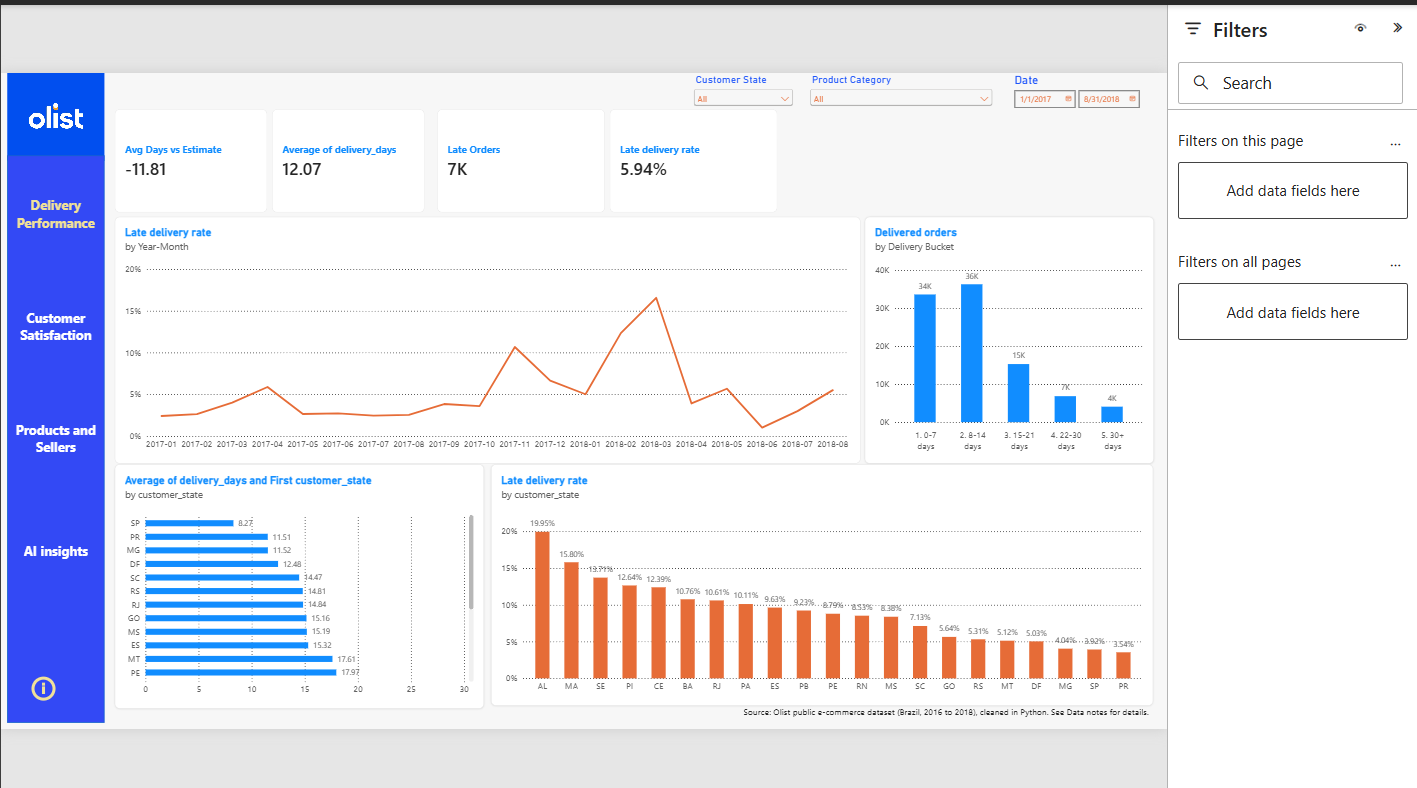

The dashboard page shown, as its layout file describes it:
{"tool":"powerbi","page":{"name":"Delivery Performance","canvas":[1920,1080],"ordinal":1},"visuals":[{"type":"cardVisual","title":"Card 1","fields":{"Data":["order_items.Avg Days vs Estimate","Avg(orders.delivery_days)"]},"box":[188,60,510,170],"z":0},{"type":"cardVisual","title":"Card 2","fields":{"Data":["order_items.Late Orders","order_items.Late delivery rate"]},"box":[718,60,560,170],"z":1000},{"type":"columnChart","fields":{"Category":["orders.Delivery Bucket"],"Y":["order_items.Delivered orders"]},"box":[1421.8,237,476.2,406.4],"z":2000},{"type":"lineChart","fields":{"Category":["Calendar.Year-Month"],"Y":["order_items.Late delivery rate"]},"box":[186.6,237.2,1227.9,406.4],"z":3000},{"type":"columnChart","fields":{"Category":["customers.customer_state"],"Y":["order_items.Late delivery rate"]},"box":[807.5,645,1090,397.7],"z":4000},{"type":"clusteredBarChart","fields":{"Category":["customers.customer_state"],"Y":["Avg(orders.delivery_days)"]},"box":[187.3,644.3,608.3,402.2],"z":5000},{"type":"image","box":[10,0,160,144],"z":6000},{"type":"shape","box":[10,136,160,934],"z":7000},{"type":"pageNavigator","box":[10,144,160,734],"z":8000},{"type":"actionButton","box":[10,962,119.4,105],"z":9000},{"type":"slicer","title":"Date","fields":{"Values":["Calendar.Date"]},"box":[1660.6,0,237.7,142.3],"z":10000},{"type":"slicer","title":"Customer State","fields":{"Values":["customers.customer_state"]},"box":[1136.5,0,172.9,81.1],"z":11000},{"type":"slicer","title":"Product Category","fields":{"Values":["products.product_category_name_english"]},"box":[1327.4,0,309.8,68.4],"z":12000},{"type":"textbox","box":[1222.5,1042.5,672.5,25],"z":13000}]}

Visuals, with their boxes on the page's 1920x1080 design canvas (x1, y1, x2, y2). These are canvas units, not pixel positions in the 1417x788 screenshot, which may show the page scaled, cropped or inside an application window:
"Card 1" cardVisual: <bbox>188, 60, 698, 230</bbox>
"Card 2" cardVisual: <bbox>718, 60, 1278, 230</bbox>
columnChart - orders.Delivery Bucket x order_items.Delivered orders: <bbox>1422, 237, 1898, 643</bbox>
lineChart - Calendar.Year-Month x order_items.Late delivery rate: <bbox>187, 237, 1414, 644</bbox>
columnChart - customers.customer_state x order_items.Late delivery rate: <bbox>808, 645, 1898, 1043</bbox>
clusteredBarChart - customers.customer_state x Avg(orders.delivery_days): <bbox>187, 644, 796, 1046</bbox>
image: <bbox>10, 0, 170, 144</bbox>
shape: <bbox>10, 136, 170, 1070</bbox>
pageNavigator: <bbox>10, 144, 170, 878</bbox>
actionButton: <bbox>10, 962, 129, 1067</bbox>
"Date" slicer: <bbox>1661, 0, 1898, 142</bbox>
"Customer State" slicer: <bbox>1136, 0, 1309, 81</bbox>
"Product Category" slicer: <bbox>1327, 0, 1637, 68</bbox>
textbox: <bbox>1222, 1042, 1895, 1068</bbox>
